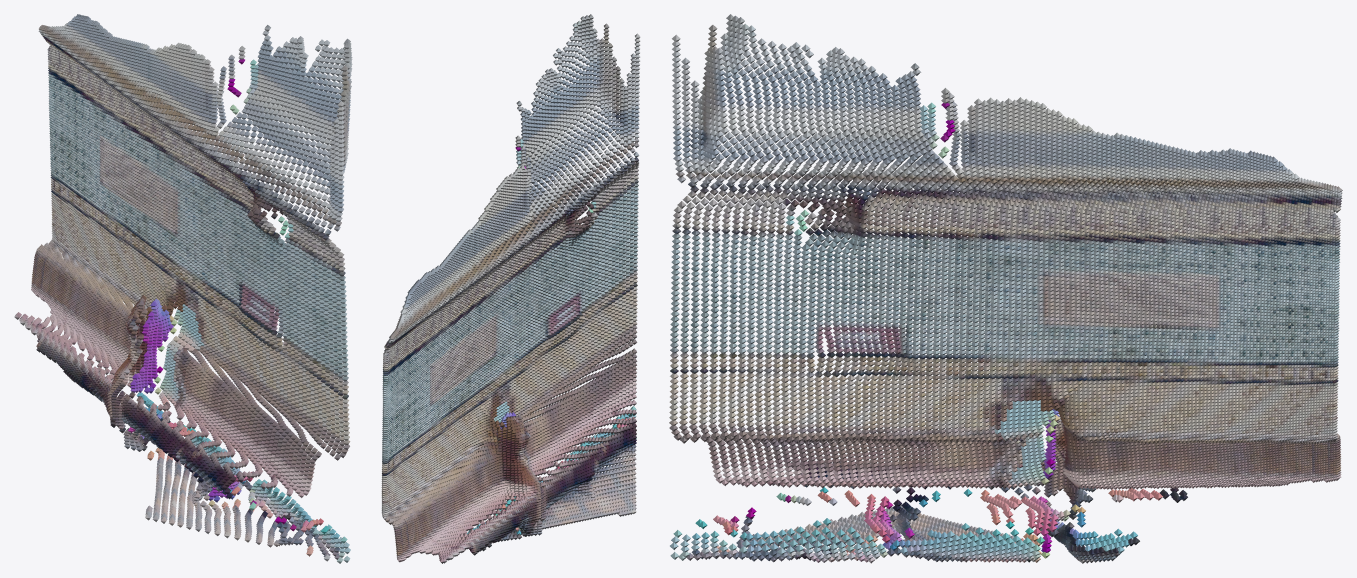
Rendered from combine_gt.glb.
3 views of the same model, side by side, from view 1: azimuth 30°, elevation 25°; view 2: azimuth 150°, elevation 25°; view 3: azimuth 270°, elevation 25° (orthographic). The views are drawn at different scales.
Parts seen in each view (by area): view 1: world; view 2: world; view 3: world.
Boxes of the visible parts, left/top/right/bottom form: world: left=14, top=14, right=352, bottom=563; world: left=381, top=14, right=640, bottom=563; world: left=669, top=14, right=1342, bottom=563.
Size of the model in its own units: 1.19 by 4.07 by 4.39.
